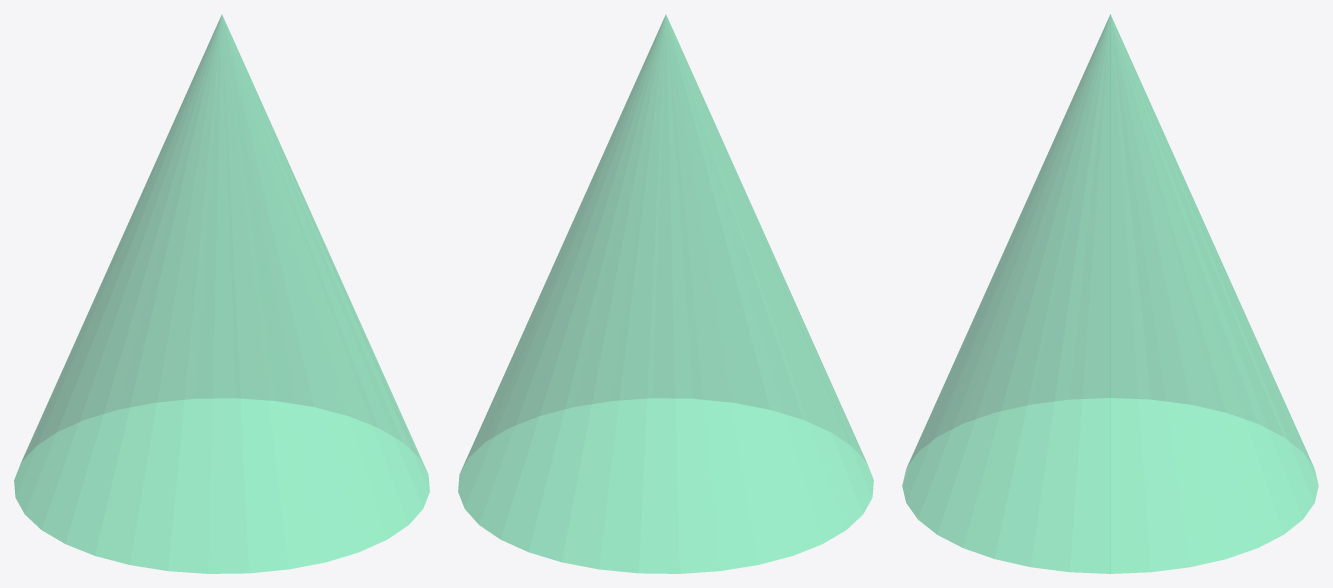
Rendered from AbductionBeamCone.obj.
The picture shows the model from 3 angles, left to right: view 1: azimuth 30°, elevation 25°; view 2: azimuth 150°, elevation 25°; view 3: azimuth 270°, elevation 25°; orthographic projection.
Parts seen in each view (by area): view 1: AbductionBeamCone; view 2: AbductionBeamCone; view 3: AbductionBeamCone.
Part boxes in pixels (bbox=[...]): AbductionBeamCone: bbox=[14, 15, 429, 573]; AbductionBeamCone: bbox=[458, 15, 873, 573]; AbductionBeamCone: bbox=[902, 14, 1318, 573].
Bounding box in the file's own units: 3.2 × 4 × 3.2.
